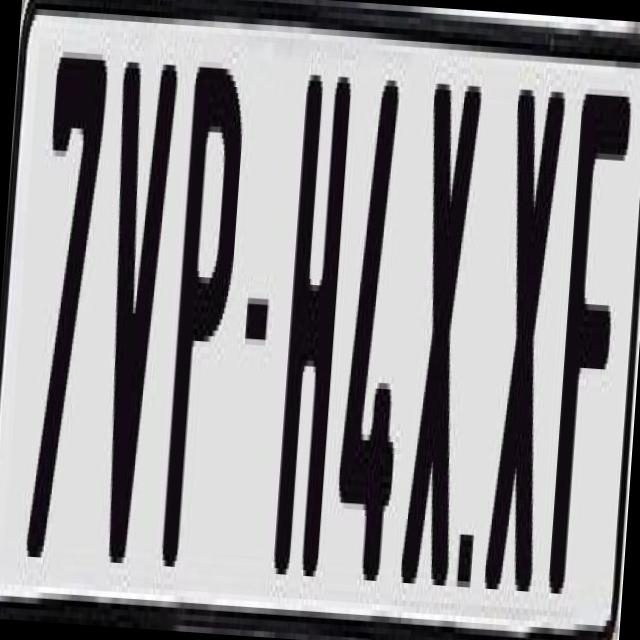4: (329, 78, 424, 587)
7: (21, 45, 114, 566)
F: (546, 82, 630, 590)
H: (272, 68, 354, 582)
P: (160, 66, 250, 587)
V: (89, 55, 184, 576)
X: (481, 89, 568, 603), (396, 83, 479, 603)
